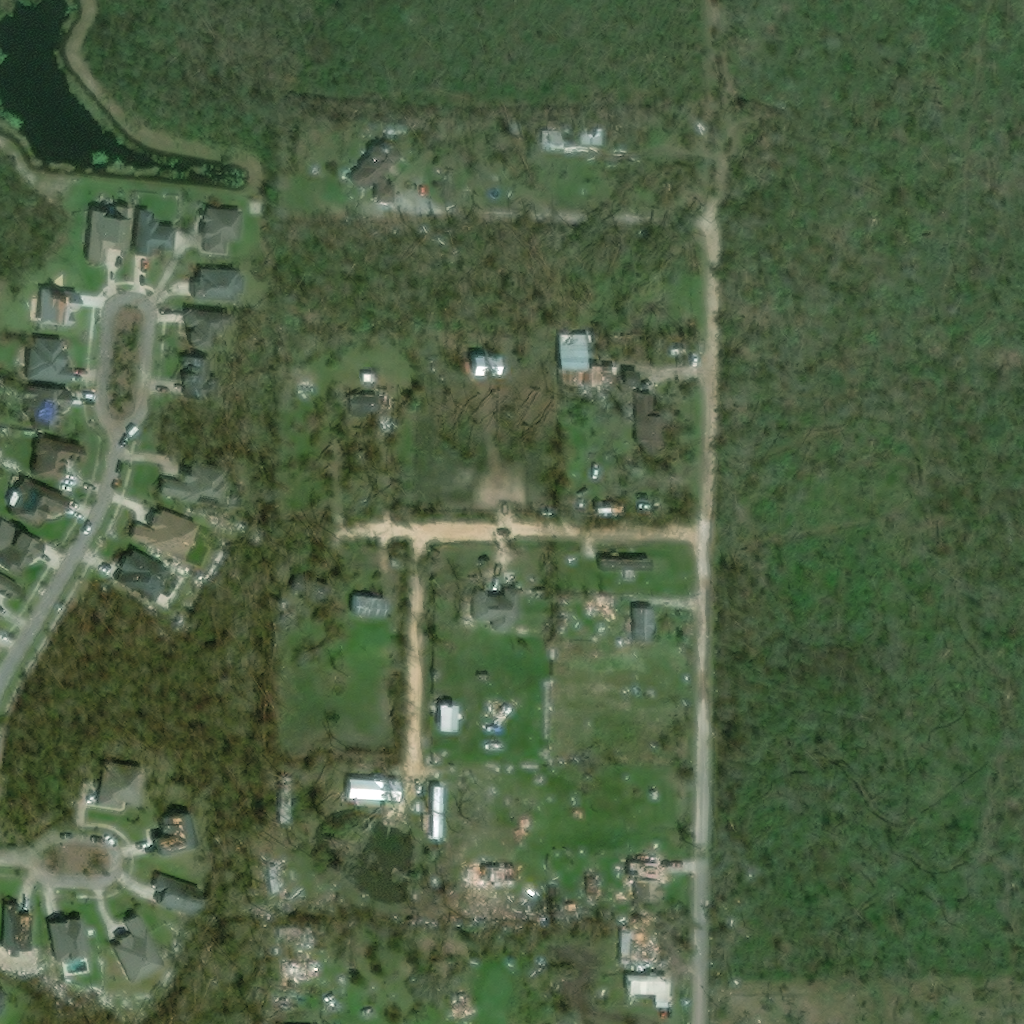destroyed: (468, 867, 519, 885), (295, 364, 319, 392), (282, 962, 318, 973), (455, 993, 471, 1014), (638, 950, 655, 968), (593, 597, 613, 609)
major_damage: (533, 124, 601, 151), (624, 862, 664, 900), (617, 607, 656, 641), (268, 860, 283, 893), (619, 925, 631, 965), (586, 874, 600, 888)
minor_damage: (8, 476, 67, 526), (17, 386, 71, 431), (150, 811, 190, 854), (2, 903, 32, 959), (623, 975, 671, 1005), (36, 290, 78, 324), (558, 334, 587, 373), (468, 356, 496, 375), (483, 744, 503, 753)
no_damage: (127, 507, 201, 562), (157, 459, 234, 510), (348, 137, 404, 201), (110, 910, 160, 981), (110, 547, 166, 603), (87, 205, 132, 261), (0, 521, 45, 577), (23, 337, 73, 383), (31, 437, 83, 479), (98, 762, 145, 808), (472, 587, 520, 632), (151, 872, 199, 914), (134, 208, 175, 256), (187, 266, 241, 302), (47, 917, 88, 963), (201, 208, 241, 253), (344, 779, 401, 802), (349, 596, 391, 623), (635, 394, 654, 453), (275, 776, 294, 828), (598, 557, 654, 573), (435, 701, 463, 730), (0, 572, 20, 601)
